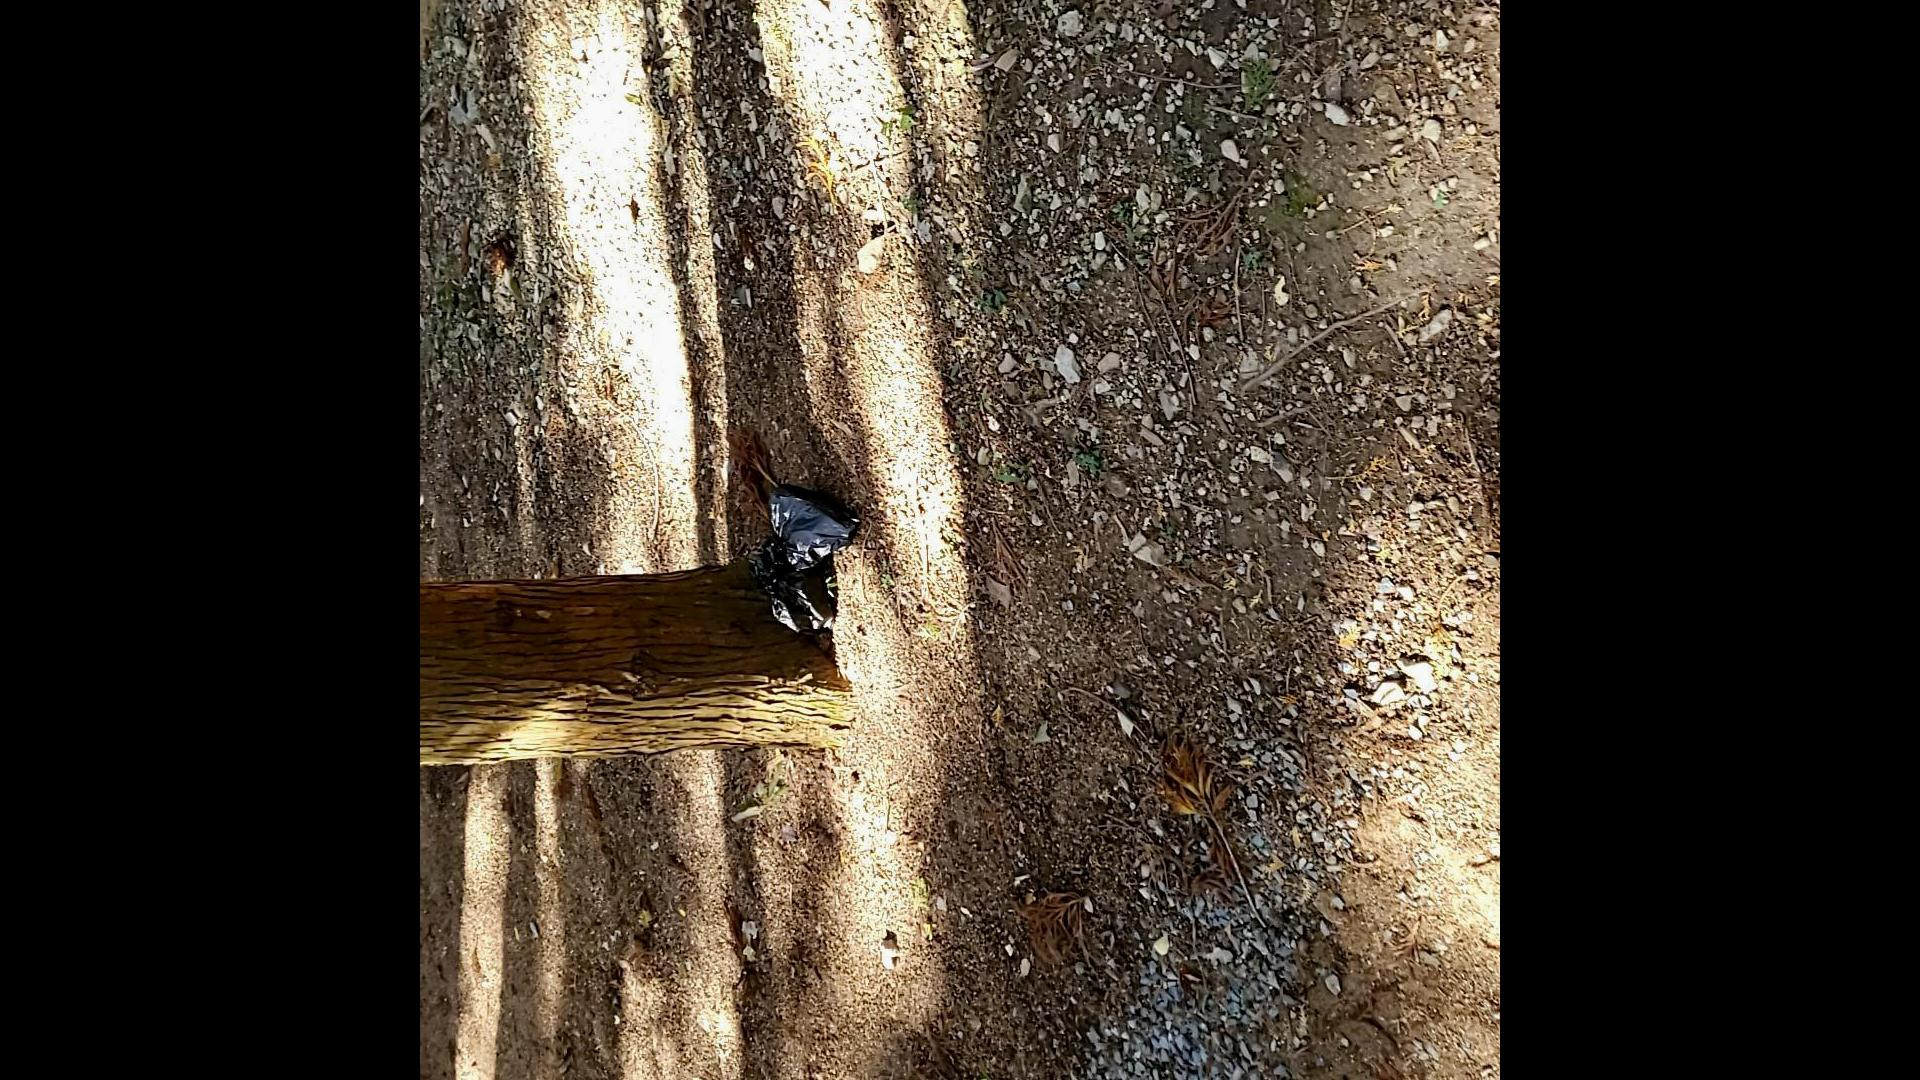black_bag: (748, 477, 864, 636)
